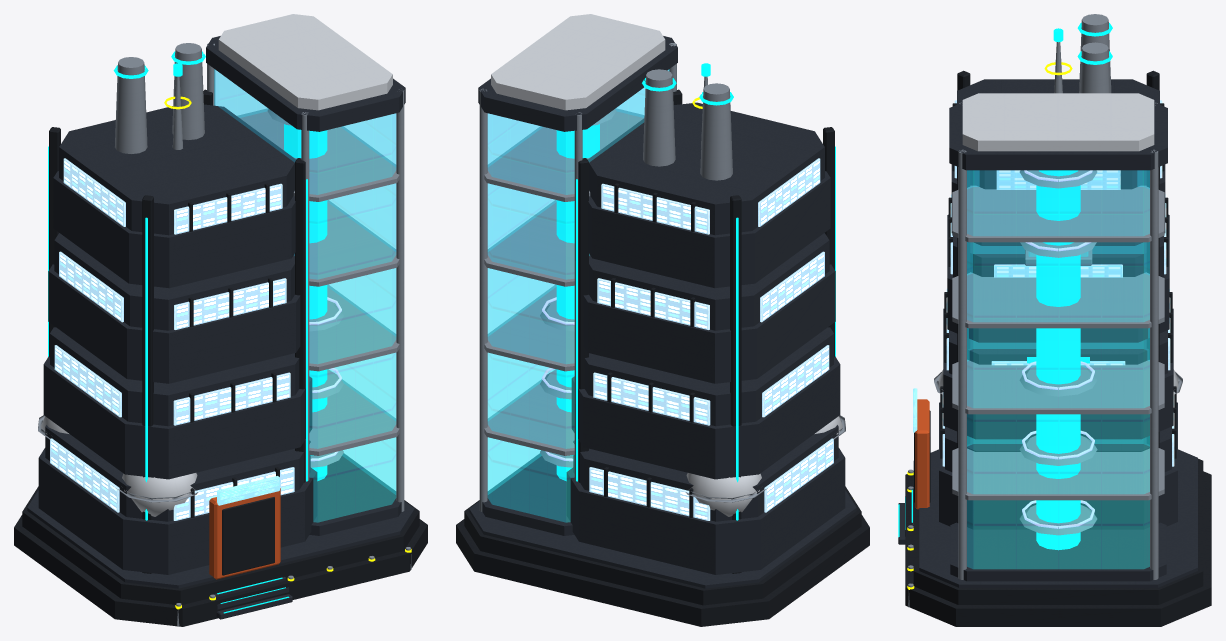
File: bldg_07_winner.glb
3 renders of one model, left to right at view 1: azimuth 30°, elevation 25°; view 2: azimuth 150°, elevation 25°; view 3: azimuth 270°, elevation 25°, orthographic.
Parts seen in each view (by area): view 1: Bldg07_C02_carbon_slate, Bldg07_C02_glass_cyan, Bldg07_C02_steel_machined, Bldg07_C02_gunmetal, Bldg07_C02_window_lit, Bldg07_C02_aero_white, Bldg07_C02_led_cyan, Bldg07_C02_accent_orange, Bldg07_C02_marquee; view 2: Bldg07_C02_carbon_slate, Bldg07_C02_glass_cyan, Bldg07_C02_steel_machined, Bldg07_C02_gunmetal, Bldg07_C02_window_lit, Bldg07_C02_aero_white, Bldg07_C02_led_cyan; view 3: Bldg07_C02_glass_cyan, Bldg07_C02_steel_machined, Bldg07_C02_carbon_slate, Bldg07_C02_gunmetal, Bldg07_C02_aero_white, Bldg07_C02_led_cyan, Bldg07_C02_window_lit, Bldg07_C02_led_uv, Bldg07_C02_accent_orange.
Boxes of the visible parts, x1,y1,x2,y2 form: Bldg07_C02_carbon_slate: (27,36,414,619); Bldg07_C02_glass_cyan: (214,69,396,522); Bldg07_C02_steel_machined: (38,43,411,626); Bldg07_C02_gunmetal: (14,89,427,626); Bldg07_C02_window_lit: (50,158,294,520); Bldg07_C02_aero_white: (41,14,392,516); Bldg07_C02_led_cyan: (48,51,327,613); Bldg07_C02_accent_orange: (209,488,280,579); Bldg07_C02_marquee: (217,476,279,505); Bldg07_C02_carbon_slate: (469,36,856,588); Bldg07_C02_glass_cyan: (487,69,669,522); Bldg07_C02_steel_machined: (479,43,845,511); Bldg07_C02_gunmetal: (456,89,869,626); Bldg07_C02_window_lit: (589,158,833,520); Bldg07_C02_aero_white: (491,14,842,516); Bldg07_C02_led_cyan: (556,63,835,520); Bldg07_C02_glass_cyan: (967,170,1149,568); Bldg07_C02_steel_machined: (908,14,1182,607); Bldg07_C02_carbon_slate: (898,79,1197,587); Bldg07_C02_gunmetal: (905,70,1211,626); Bldg07_C02_aero_white: (938,93,1178,388); Bldg07_C02_led_cyan: (898,22,1112,550); Bldg07_C02_window_lit: (942,100,1174,466); Bldg07_C02_led_uv: (1022,170,1094,528); Bldg07_C02_accent_orange: (915,399,929,509).
Bounding box in the file's own units: 12 × 17.92 × 10.23.
11 materials, 11 textured.
